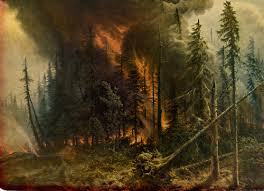fire: (130, 60, 171, 153), (94, 27, 142, 76)
smoke: (17, 1, 85, 63), (114, 3, 172, 23)
